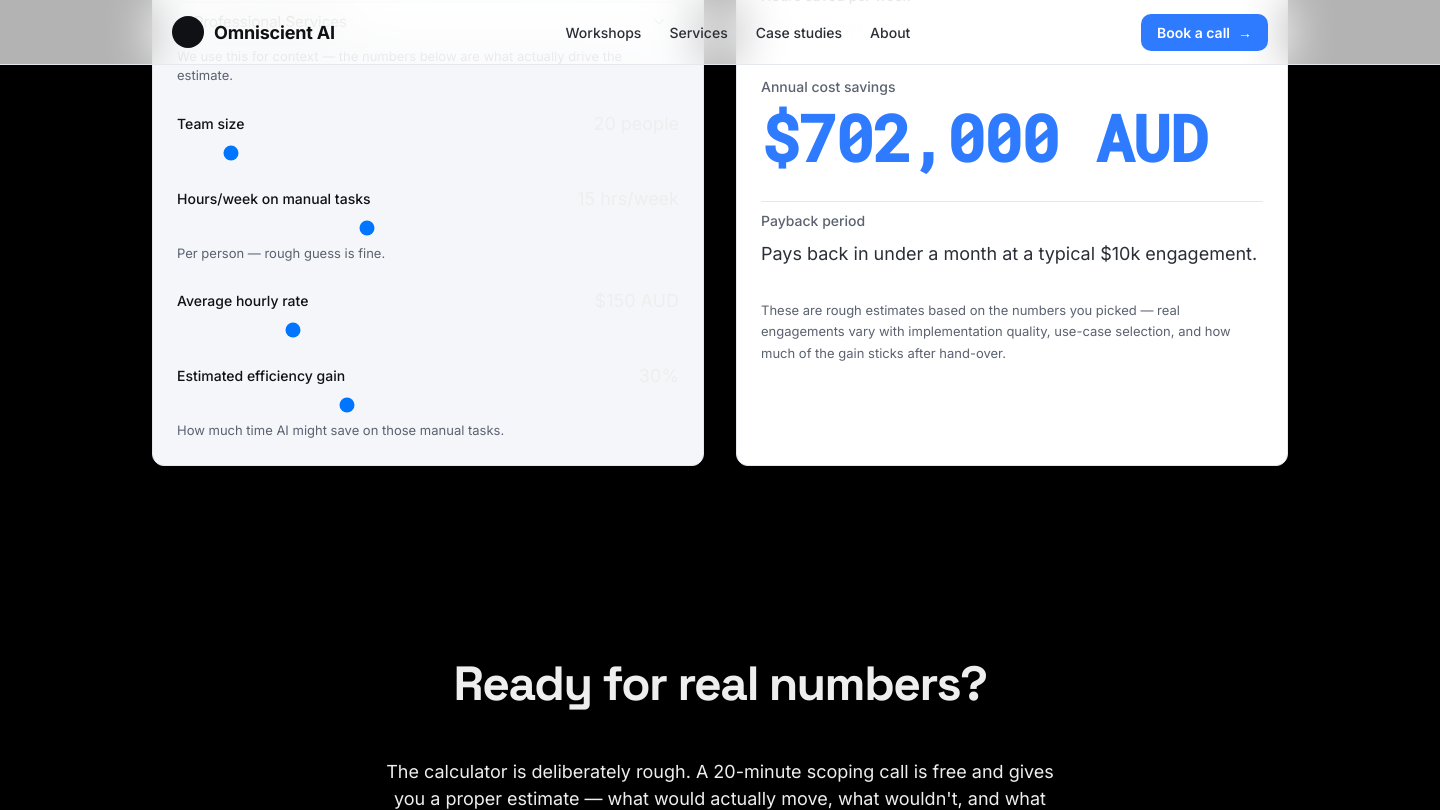
Test: ROICalculator page › updating the efficiency gain updates the annual savings
This screenshot has width=1440, height=810.
(page scrolled)
Expected: the text with test id "annual-savings" reads "$702,000 AUD", [761, 95, 1206, 179]
Set the slider with test id "efficiency-slider" to "60": (541, 405) [177, 397, 679, 413]
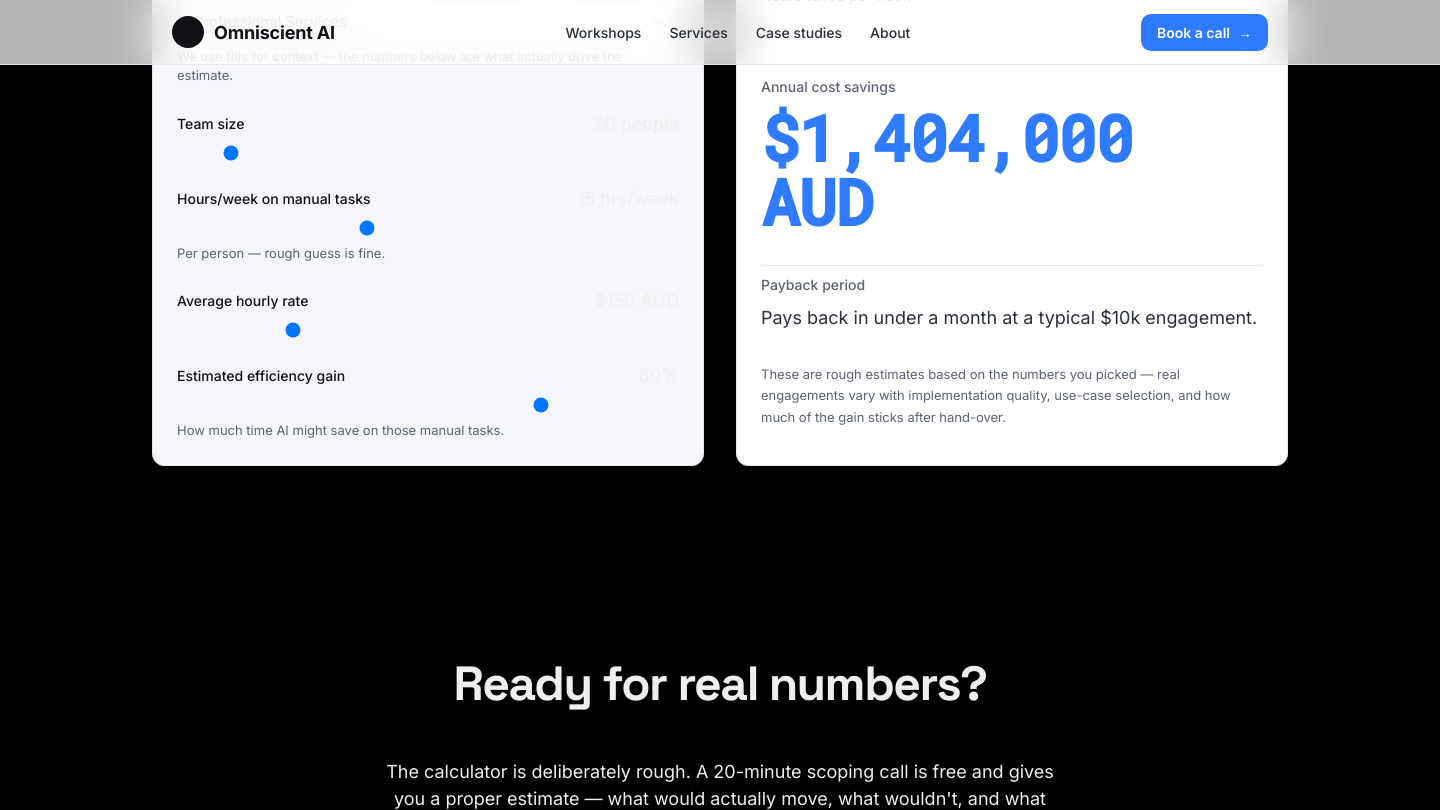
Result: the text with test id "annual-savings" reads "$1,404,000 AUD" at [761, 95, 1132, 243]
